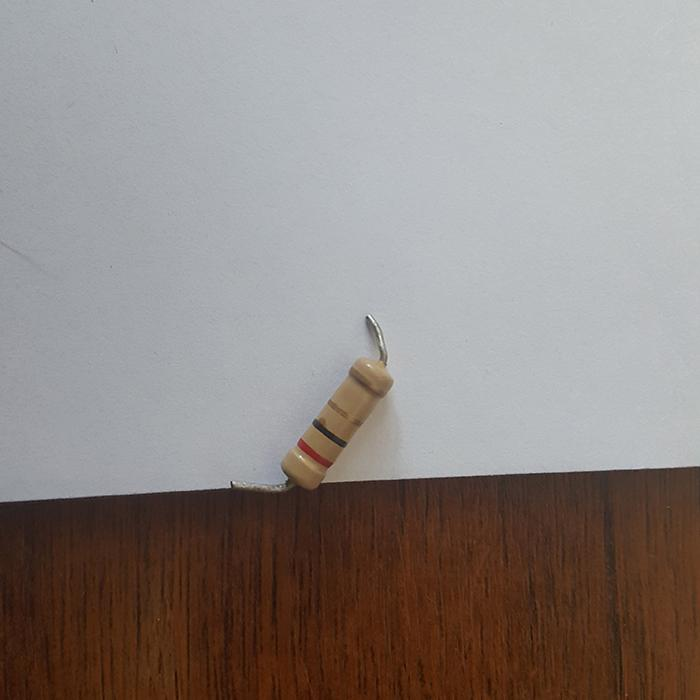resistor: (281, 355, 391, 492)
